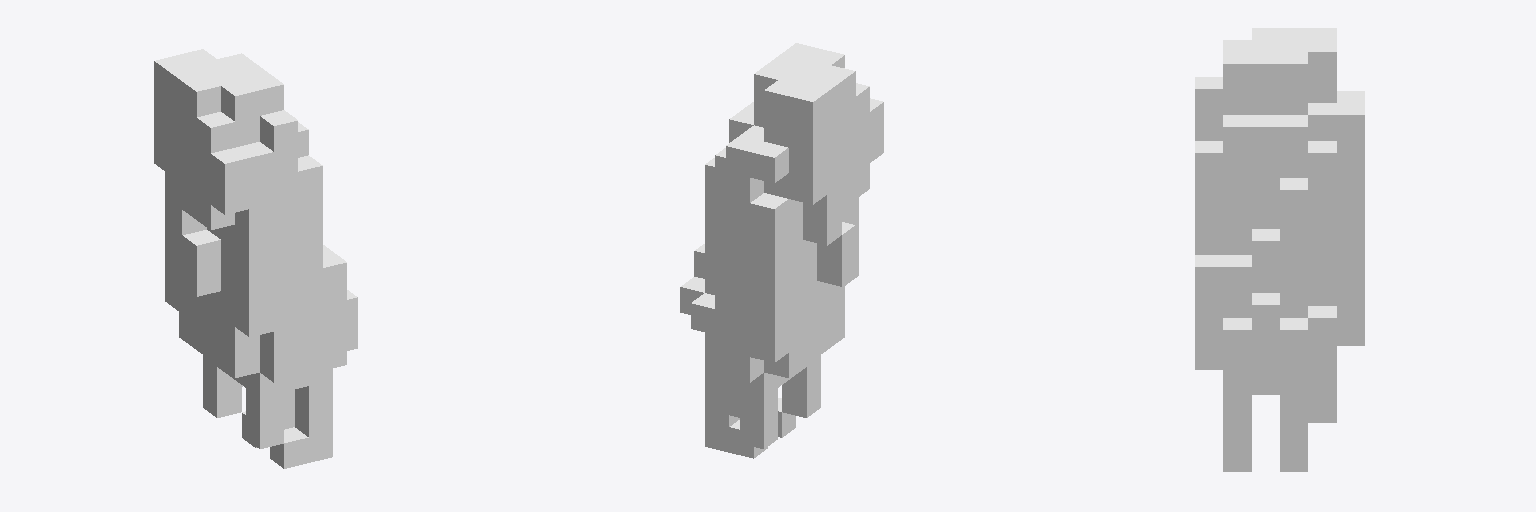
Rendered from vrach-0-4.obj.
3 renders of one model, left to right at view 1: azimuth 30°, elevation 25°; view 2: azimuth 150°, elevation 25°; view 3: azimuth 270°, elevation 25°, orthographic.
Parts seen in each view (by area): view 1: object 1; view 2: object 1; view 3: object 1.
Part boxes in pixels (left/top/right/bottom): object 1: left=154, top=49, right=357, bottom=468; object 1: left=680, top=43, right=883, bottom=458; object 1: left=1195, top=28, right=1364, bottom=471.
Bounding box in the file's own units: 0.6 × 1.5 × 0.6.